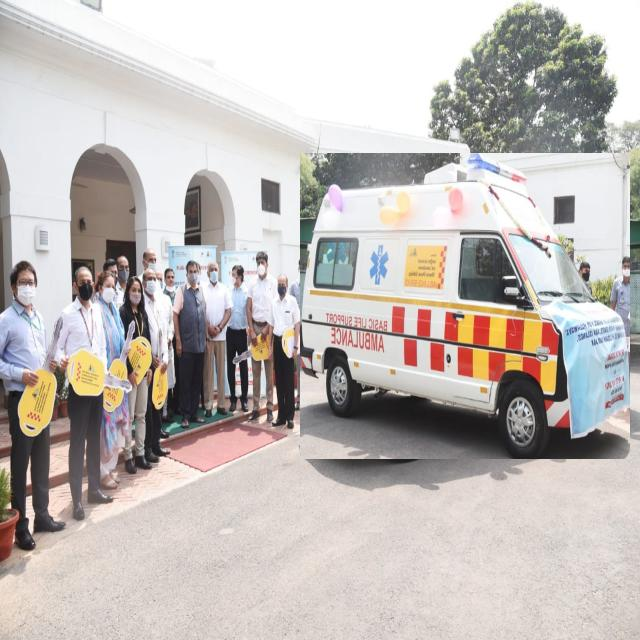emergency: (300, 153, 630, 459)
